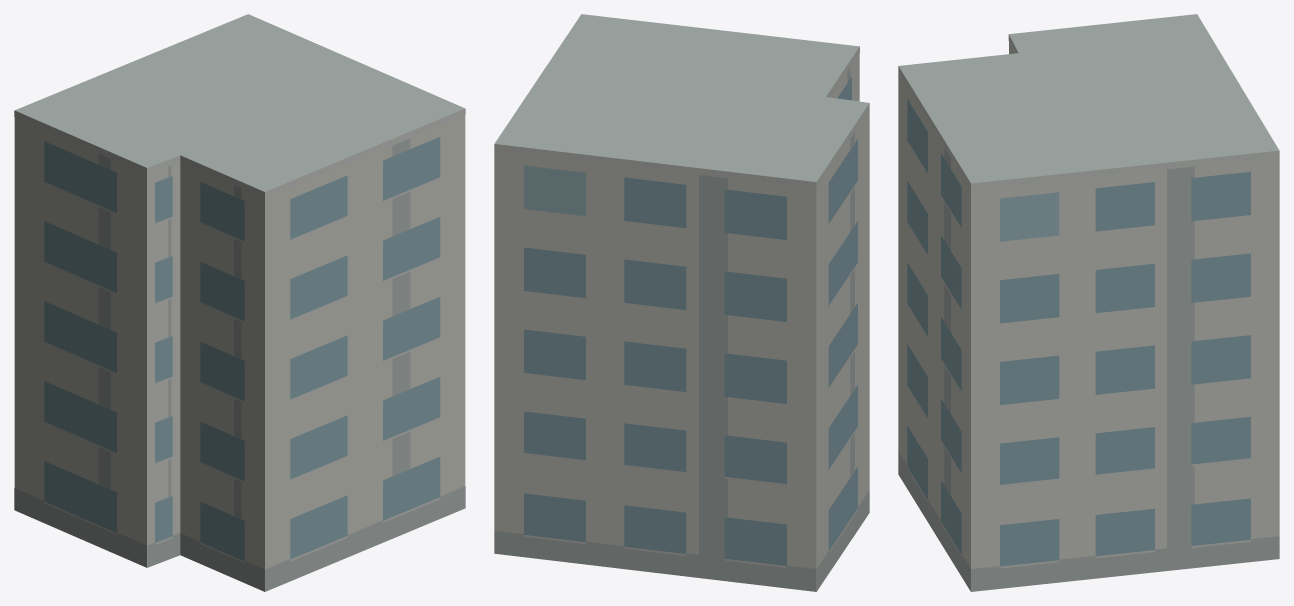
Rendered from survey-upis-32710916.glb.
3 views of the same model, side by side, from view 1: azimuth 30°, elevation 25°; view 2: azimuth 150°, elevation 25°; view 3: azimuth 270°, elevation 25° (orthographic). The views are drawn at different scales.
Visible parts, largest first — view 1: survey-upis-32710916.tmp; view 2: survey-upis-32710916.tmp; view 3: survey-upis-32710916.tmp.
Part boxes in pixels (<box>): survey-upis-32710916.tmp: <box>14,14,465,591</box>; survey-upis-32710916.tmp: <box>494,14,869,591</box>; survey-upis-32710916.tmp: <box>898,14,1279,591</box>.
Size of the model in its own units: 12.92 by 14.5 by 12.28.
